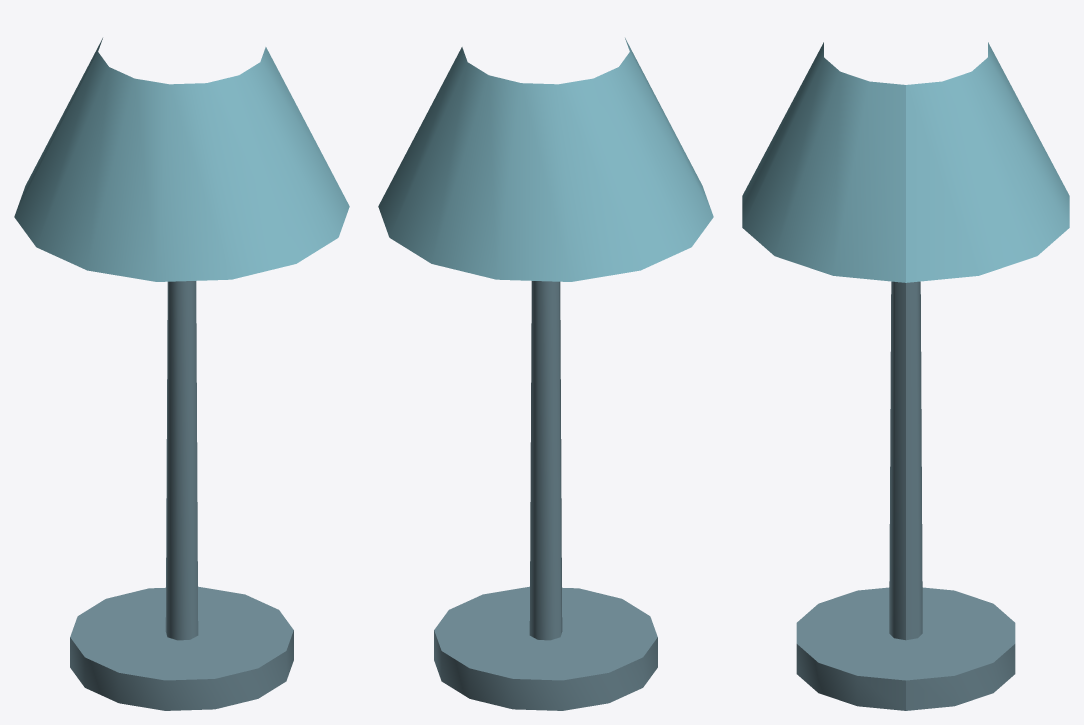
Rendered from lamp.glb.
3 renders of one model, left to right at view 1: azimuth 30°, elevation 25°; view 2: azimuth 150°, elevation 25°; view 3: azimuth 270°, elevation 25°, orthographic.
Size of the model in its own units: 0.6 by 1.21 by 0.585.
